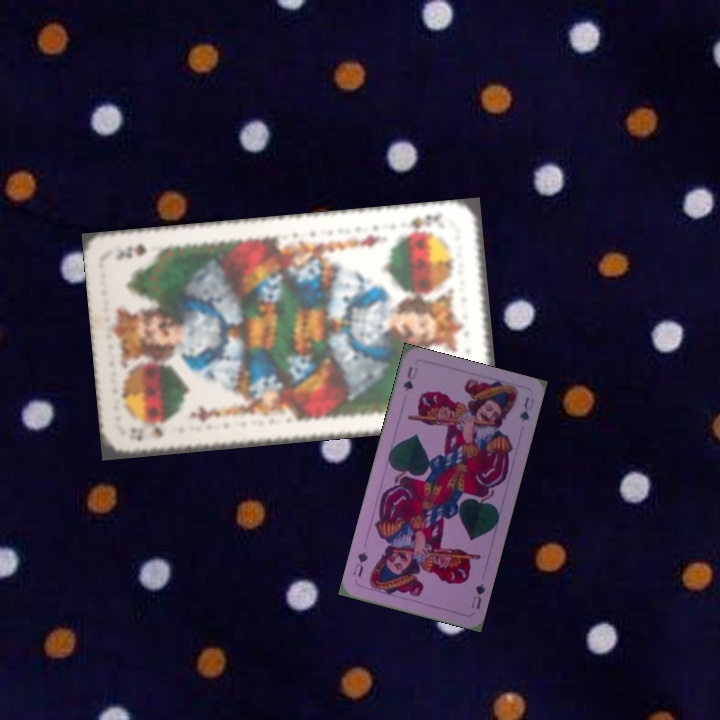GU: (467, 579, 488, 612), (399, 362, 420, 394)
SK: (397, 209, 445, 238), (125, 422, 166, 443)
